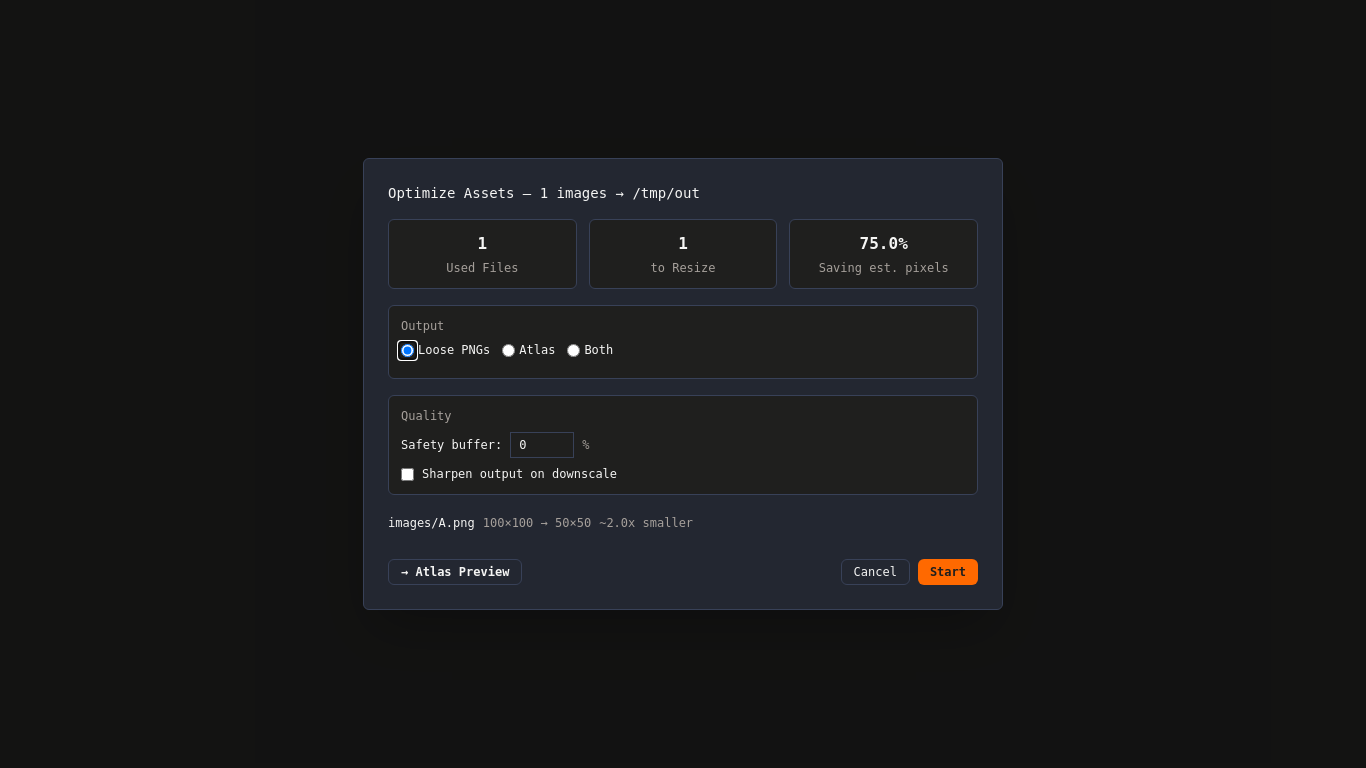
OptimizeDialog — auto-expand on per-row error › user can still click the row to collapse the auto-expanded error
Click the button "Start". click: x=948, y=572
box: [918,559,978,585]
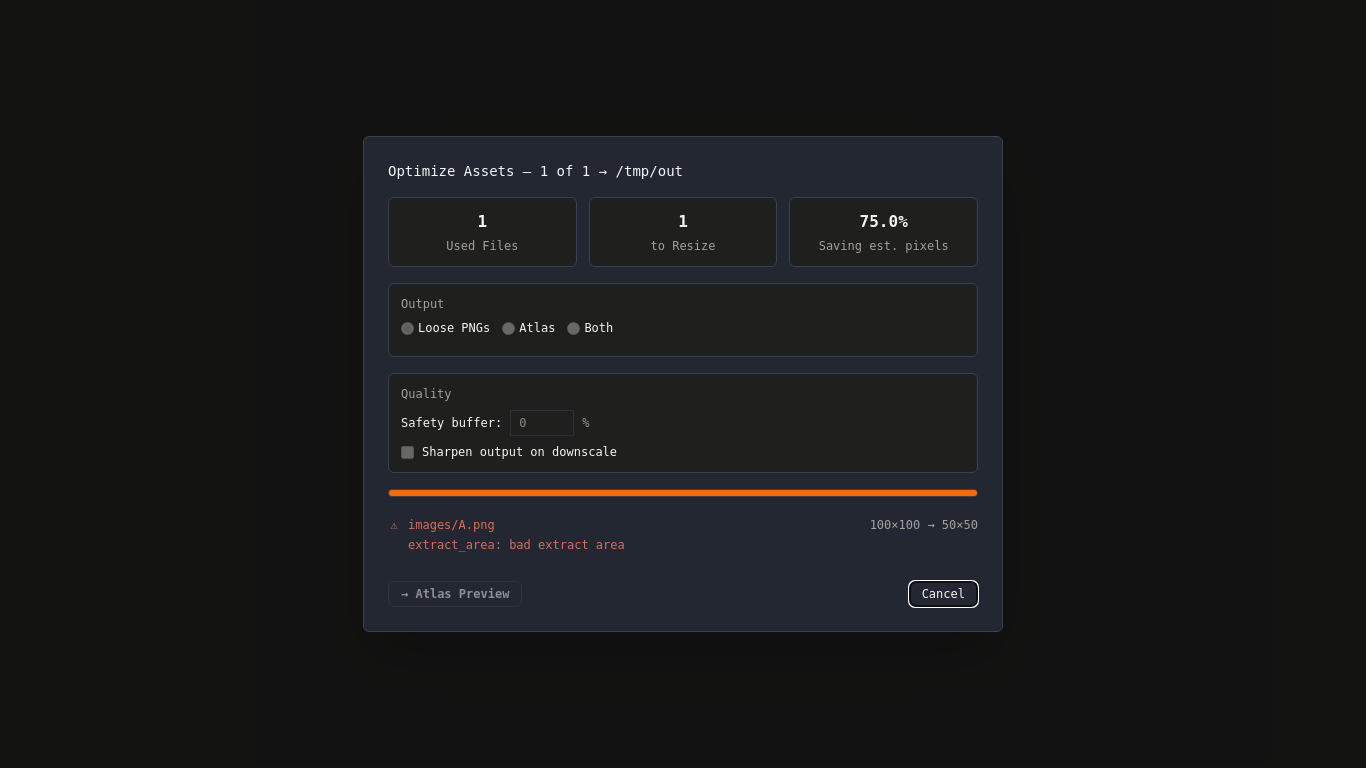
Now the text "extract_area: bad extract area" is shown, box [408,538,625,552]
Click the failing row → toggles expanded off.
Click the button "⚠ images/A.png 100×100 → 50×50". click: x=451, y=525
box: [388,517,978,533]
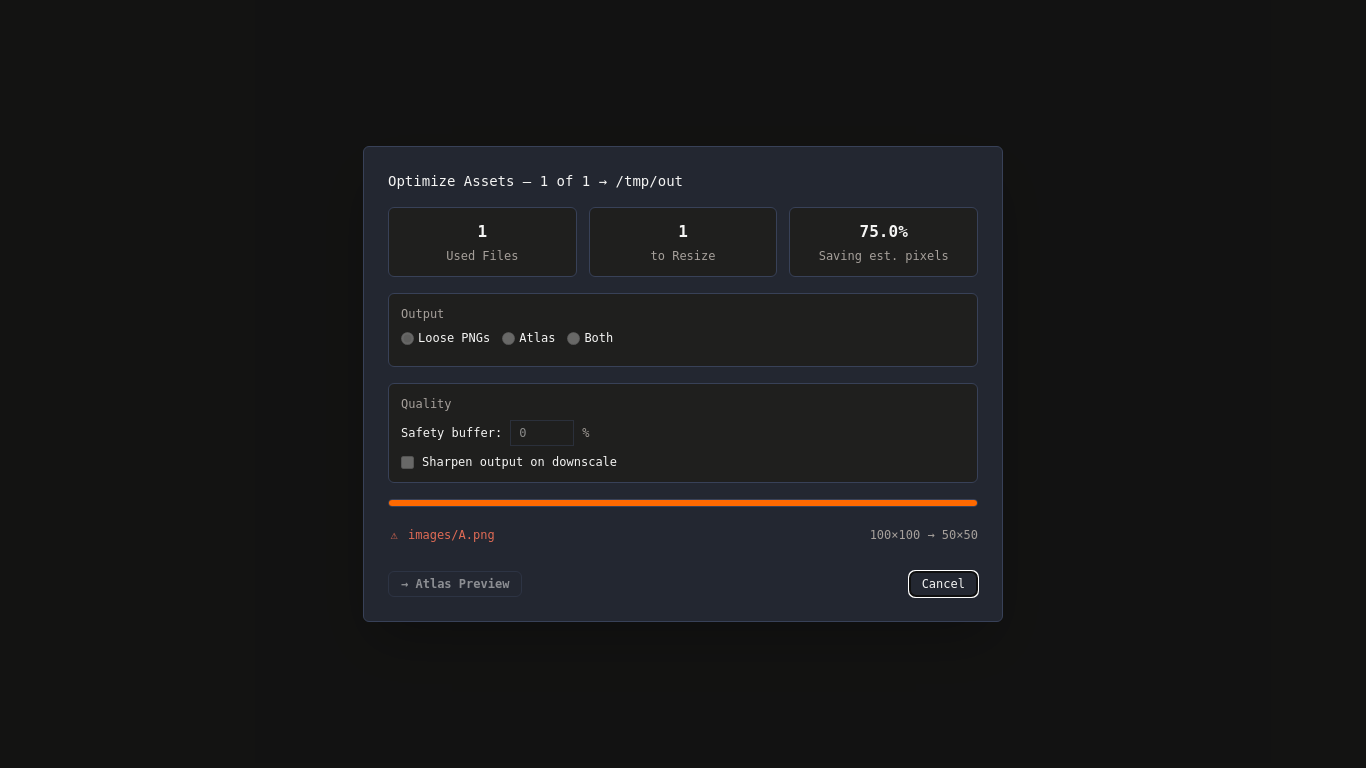
Now the text "extract_area: bad extract area" is gone
